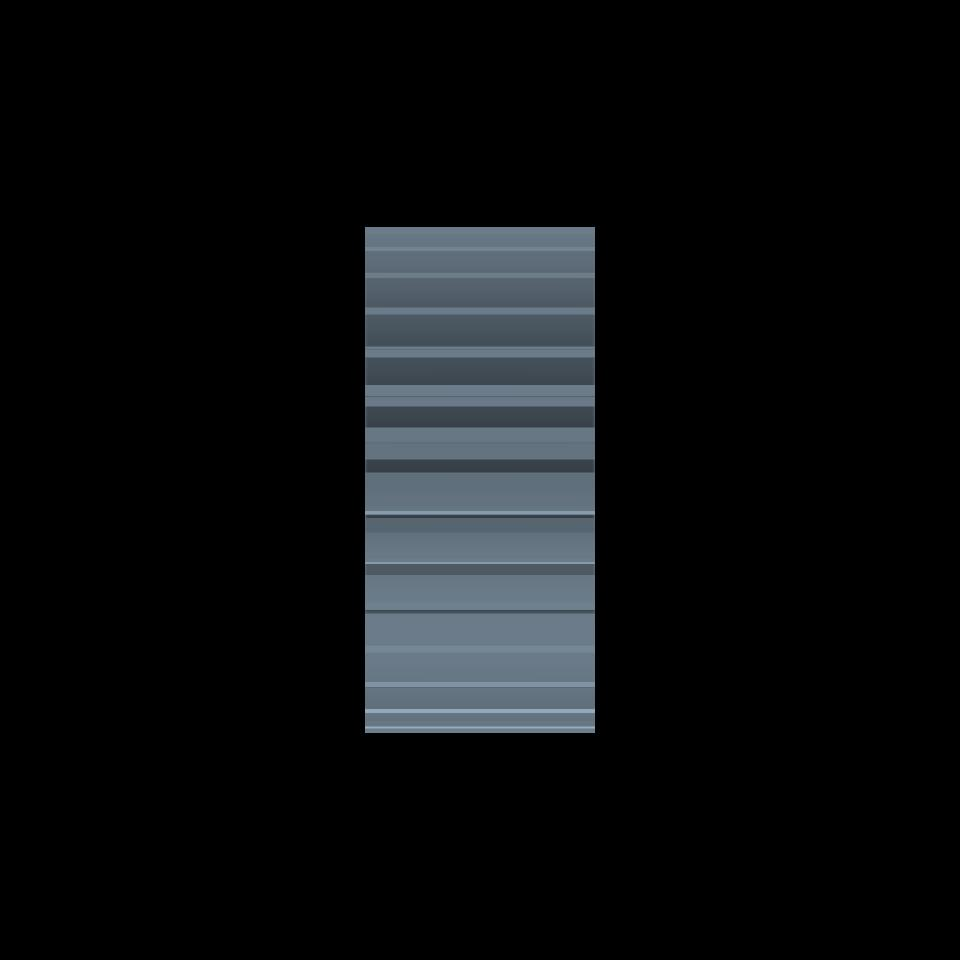Straight: (364, 227, 595, 733)
